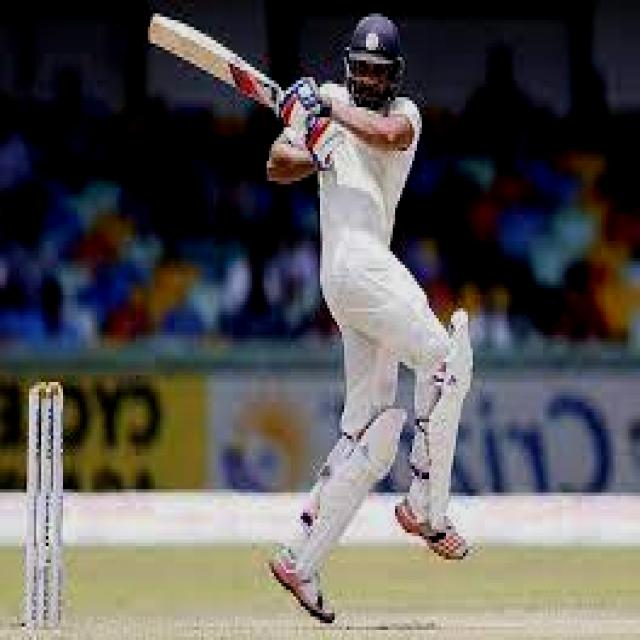toe: (140, 8, 174, 54)
